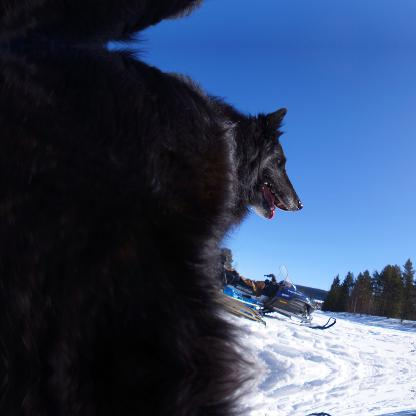Dog: (0, 44, 257, 370), (208, 92, 304, 224)
